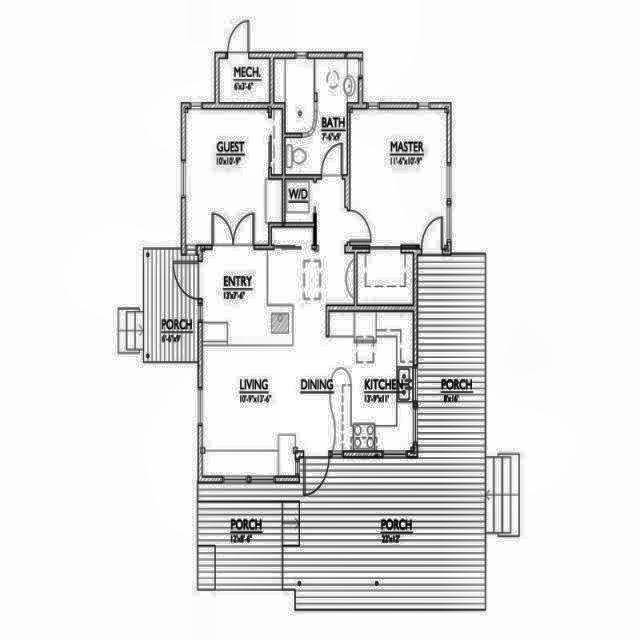room: (202, 180, 413, 477), (185, 108, 284, 246), (351, 110, 446, 245), (274, 59, 359, 175), (144, 250, 197, 362), (358, 253, 413, 303), (220, 59, 270, 101), (287, 180, 313, 222), (272, 228, 313, 245)
